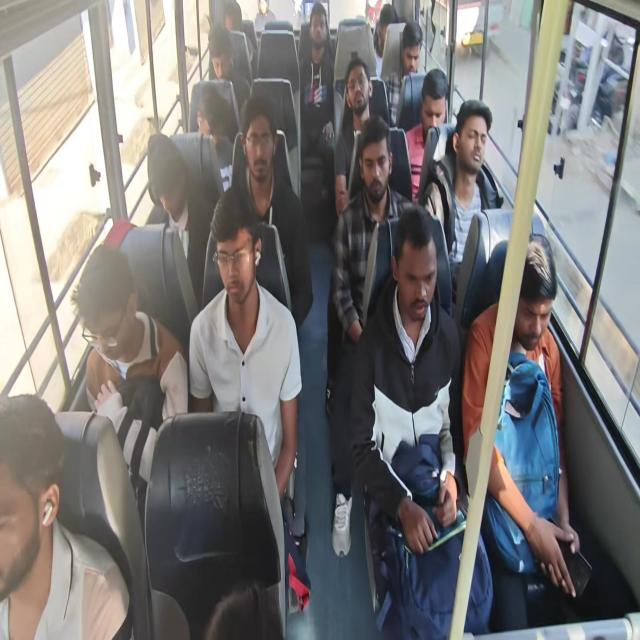person: (0, 374, 66, 604), (73, 242, 137, 366), (204, 187, 262, 306), (501, 227, 561, 340), (383, 208, 441, 322), (141, 130, 190, 225), (236, 96, 281, 185), (182, 76, 233, 148), (354, 121, 396, 199), (456, 99, 488, 192), (416, 58, 446, 146), (203, 21, 240, 88), (342, 53, 378, 119), (403, 14, 425, 76), (376, 6, 402, 55), (306, 3, 329, 48), (221, 5, 248, 32)
